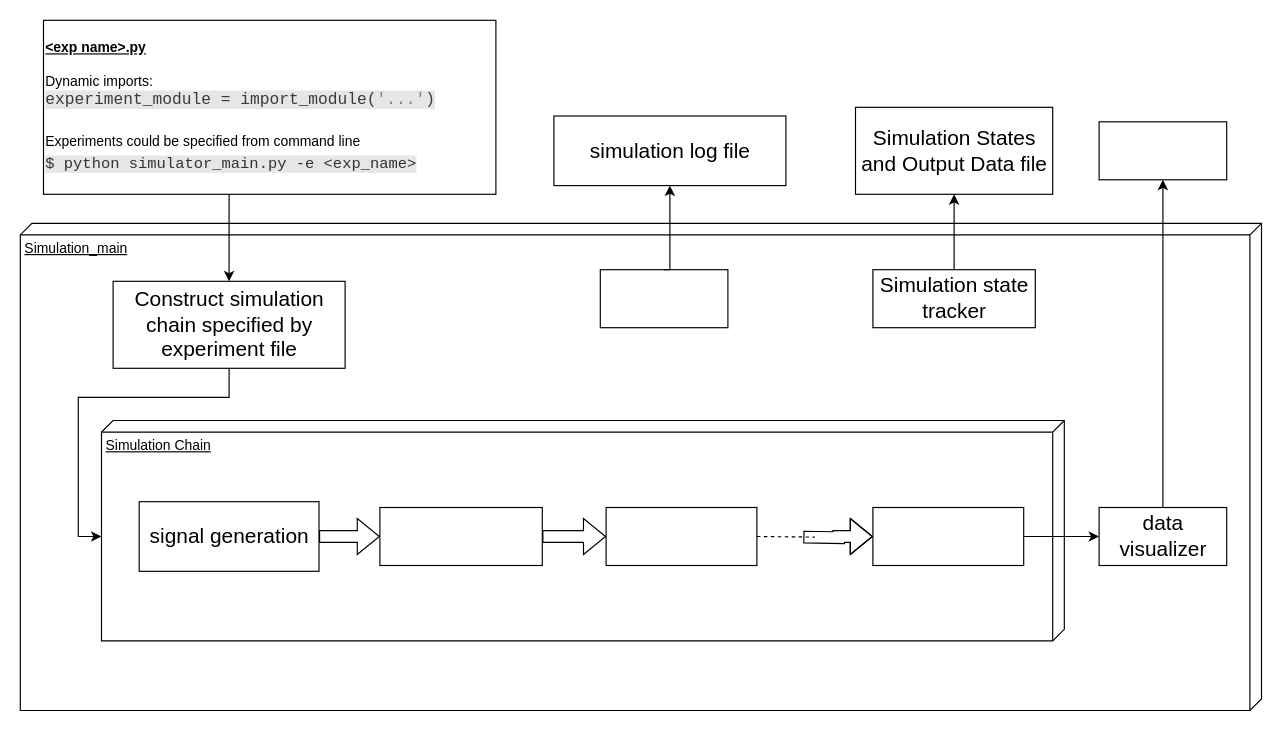
Image size: 1282x731. Some labels were removed from this diagram. Here are the shapes that lost their labels. From the top down, the box of each, then its label:
(1098, 121, 1227, 180): output plot
(599, 269, 728, 328): Logger
(379, 506, 542, 566): Stage 1
(605, 506, 757, 566): Stage 2
(872, 506, 1024, 566): Stage N
